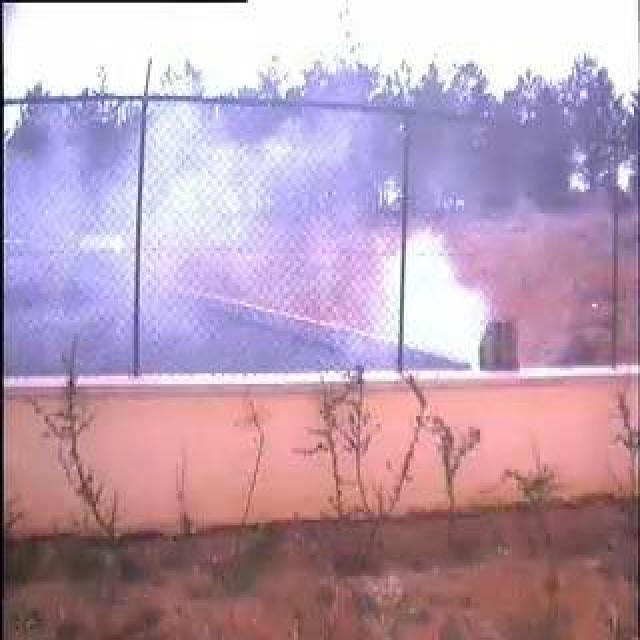Smoke: (96, 97, 510, 375)
